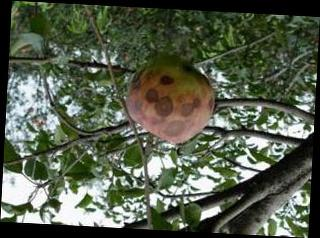rotten apple: (126, 67, 210, 144)
